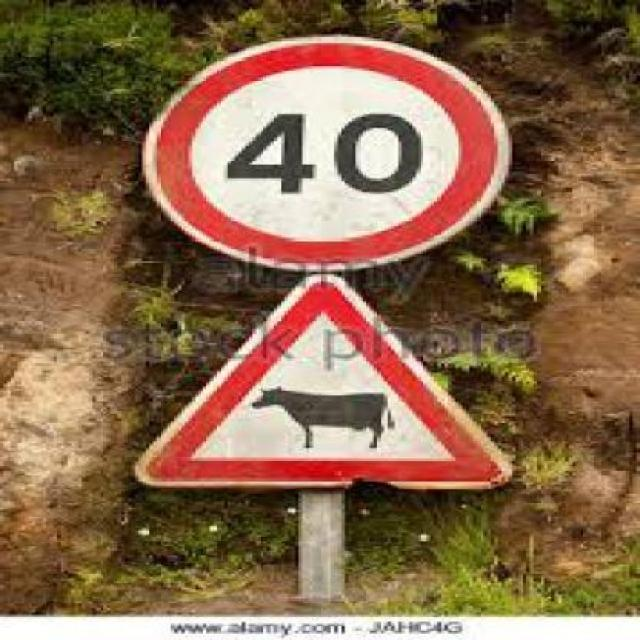forb_speed_over_40: (150, 41, 496, 264)
